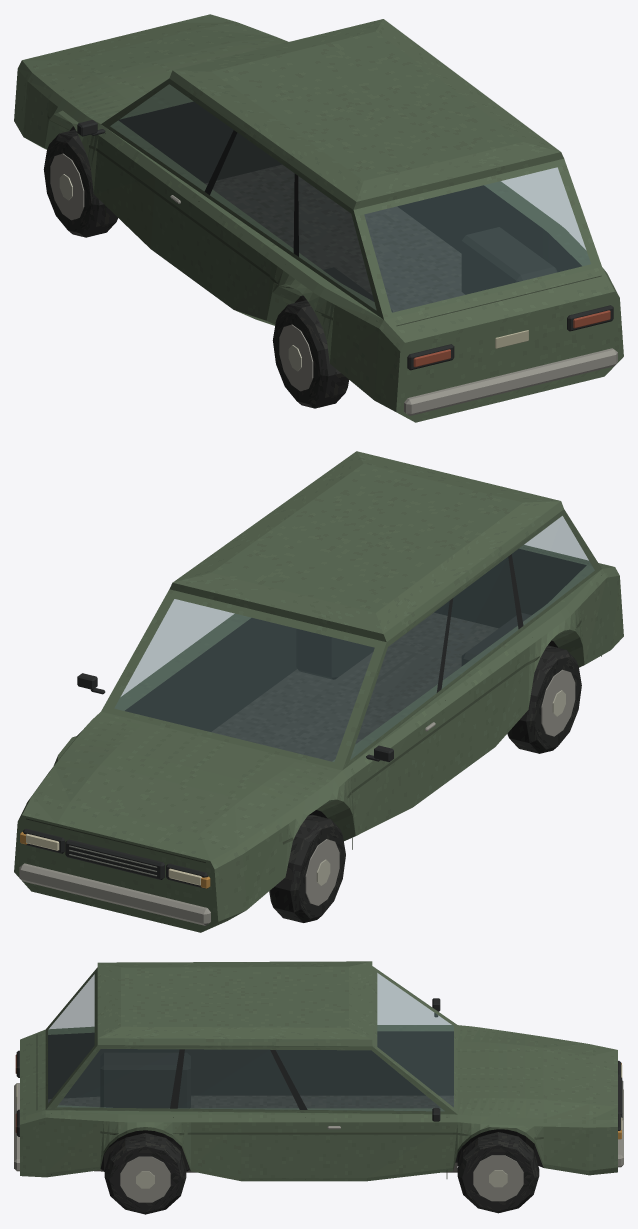
File: vehicle_tourer.glb
3 renders of one model, top to bottom at view 1: azimuth 30°, elevation 25°; view 2: azimuth 150°, elevation 25°; view 3: azimuth 270°, elevation 25°, orthographic. The views are drawn at different scales.
Parts seen in each view (by area): view 1: closed_body, roof_body, glazing; view 2: closed_body, glazing, roof_body; view 3: closed_body, glazing, roof_body.
Part boxes in pixels (x1=…): closed_body: x1=14, y1=14, x2=623, y2=422; roof_body: x1=169, y1=19, x2=563, y2=209; glazing: x1=110, y1=84, x2=590, y2=312; closed_body: x1=14, y1=509, x2=623, y2=932; glazing: x1=114, y1=516, x2=594, y2=761; roof_body: x1=169, y1=451, x2=563, y2=642; closed_body: x1=14, y1=966, x2=623, y2=1214; glazing: x1=48, y1=973, x2=453, y2=1111; roof_body: x1=97, y1=961, x2=372, y2=1046.
Bounding box in the file's own units: 2.15 × 1.48 × 4.78.
Materials: 2 (2 with a texture image).
